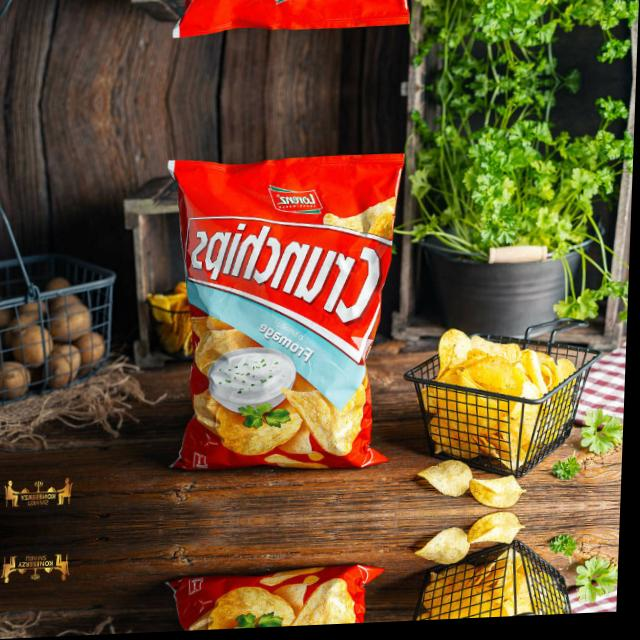crunchips: (189, 219, 395, 370)
